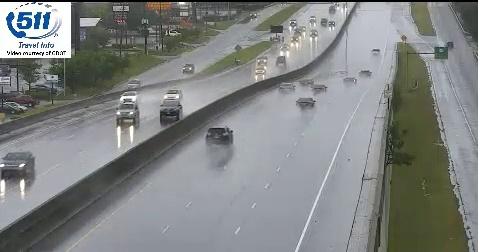car: (206, 127, 233, 147), (296, 97, 314, 110)
